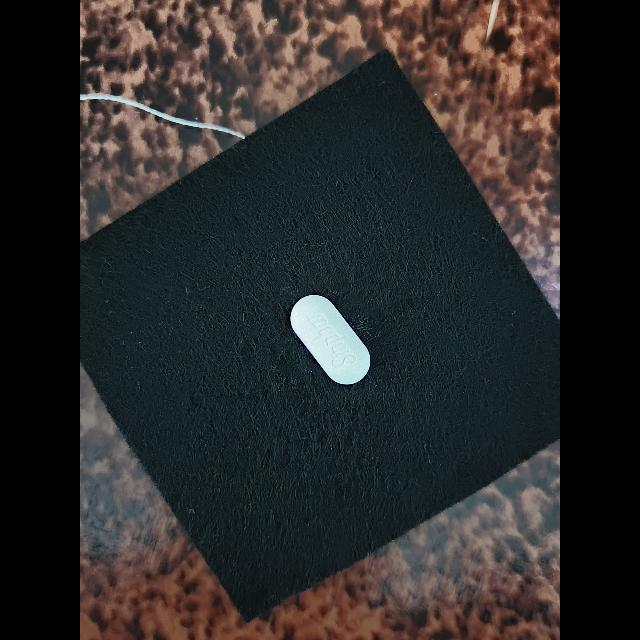Intact Pill: (290, 294, 371, 384)
